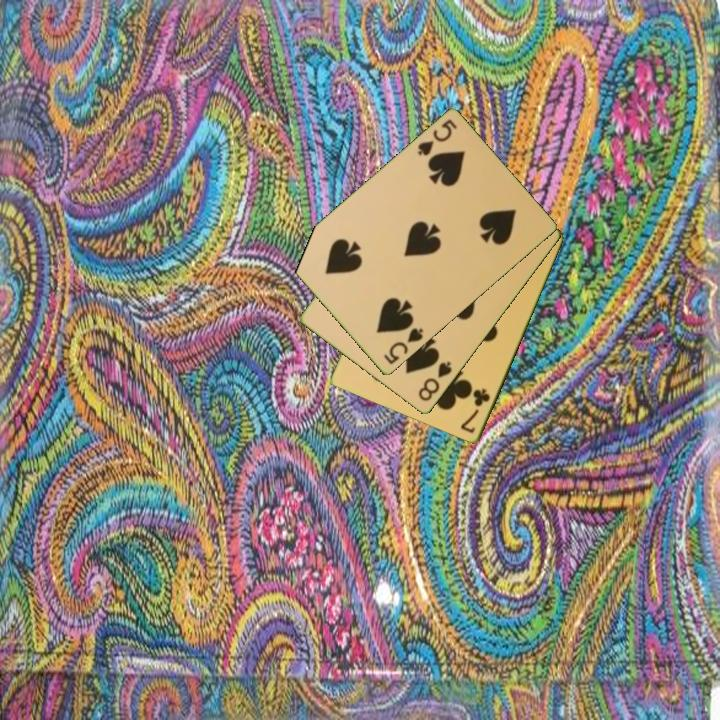5s: (380, 324, 426, 368), (414, 116, 460, 159)
7c: (457, 385, 493, 437)
8s: (415, 358, 455, 405)
